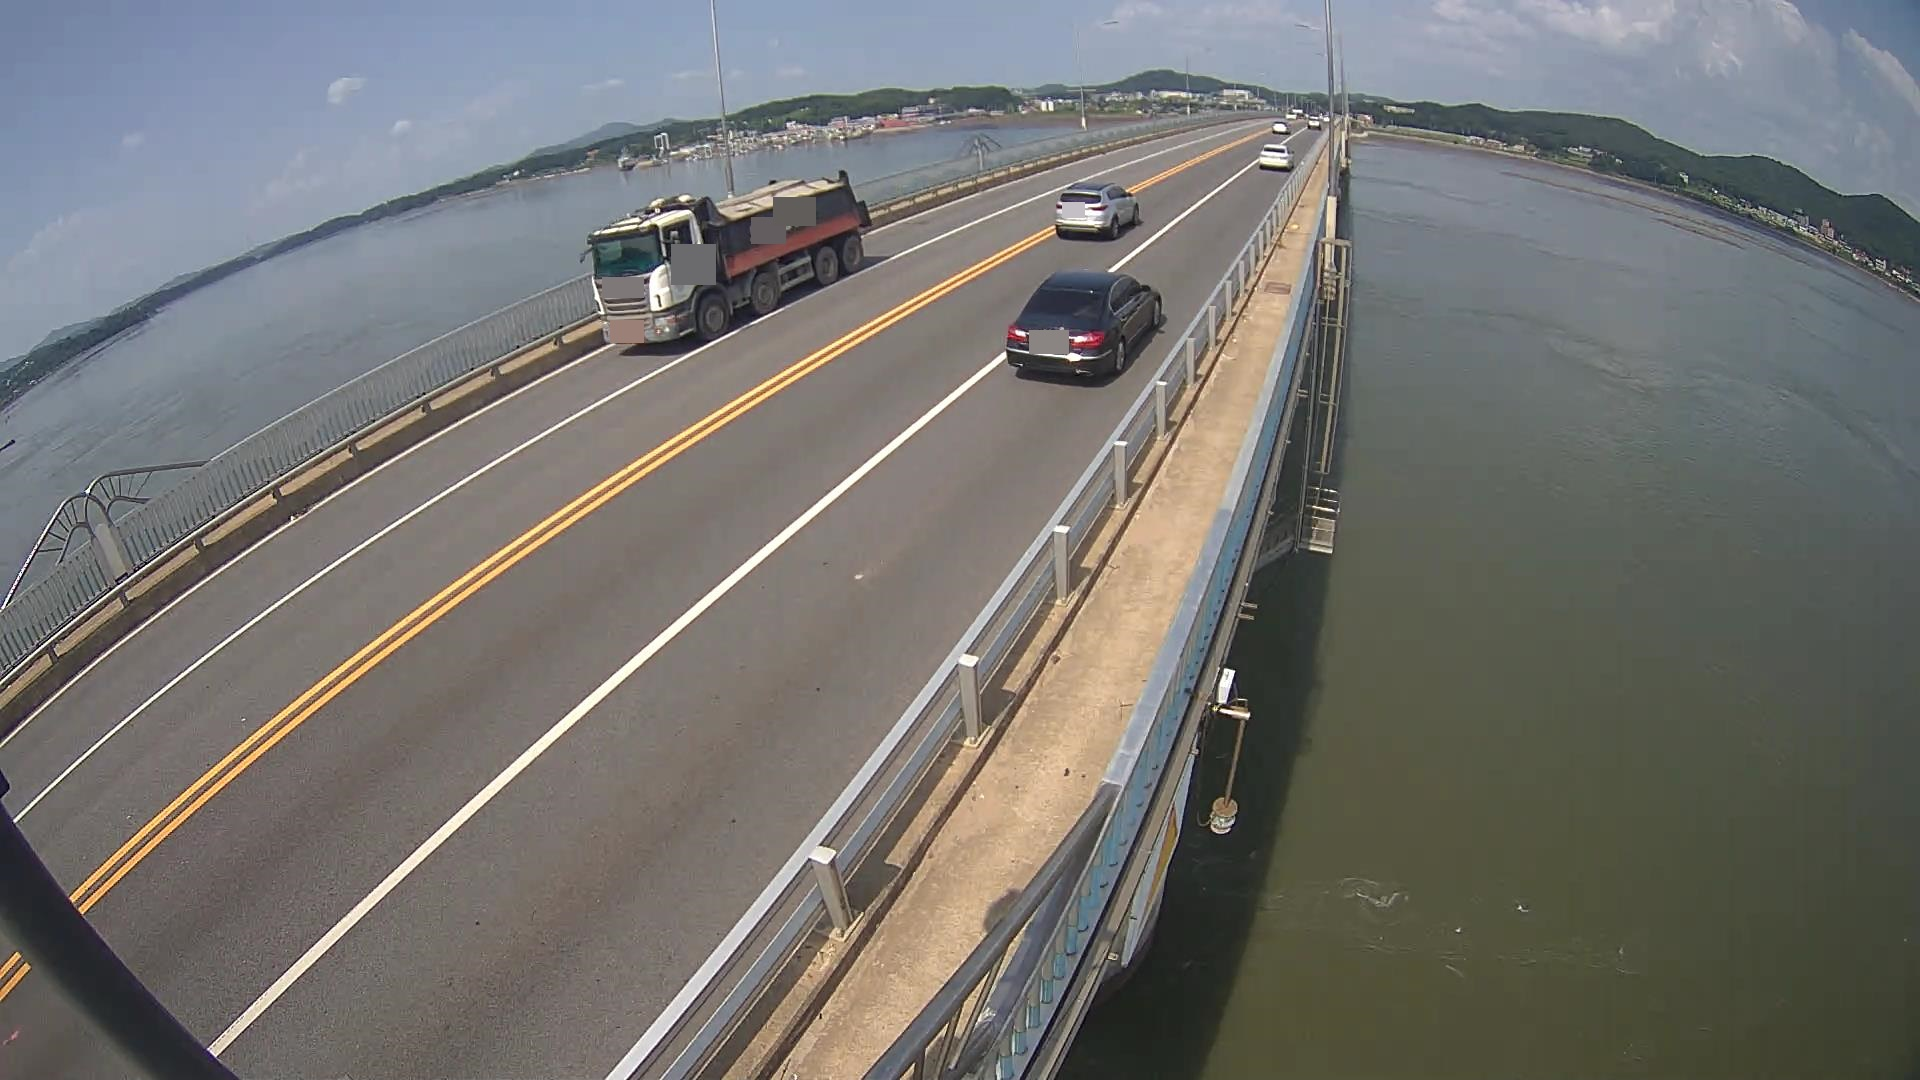정상차량: (579, 169, 871, 341)
